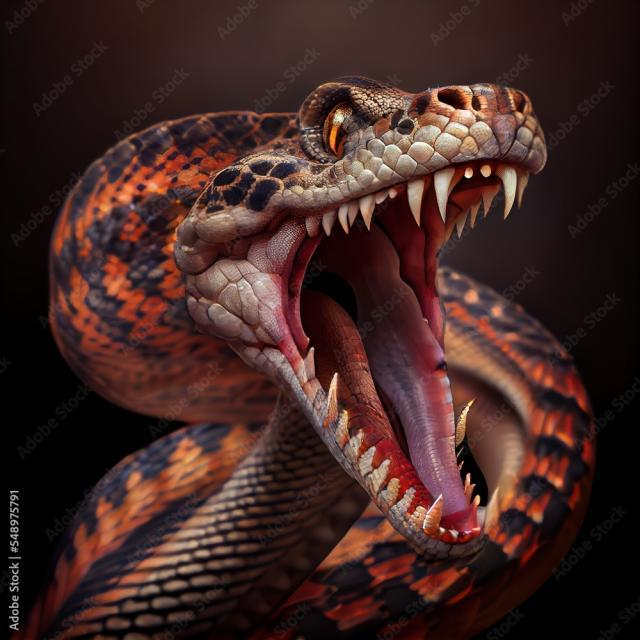Snake: (43, 54, 640, 638)
